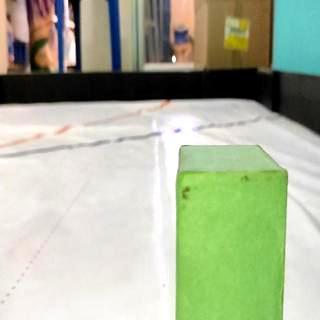greenbox: (176, 141, 290, 320)
